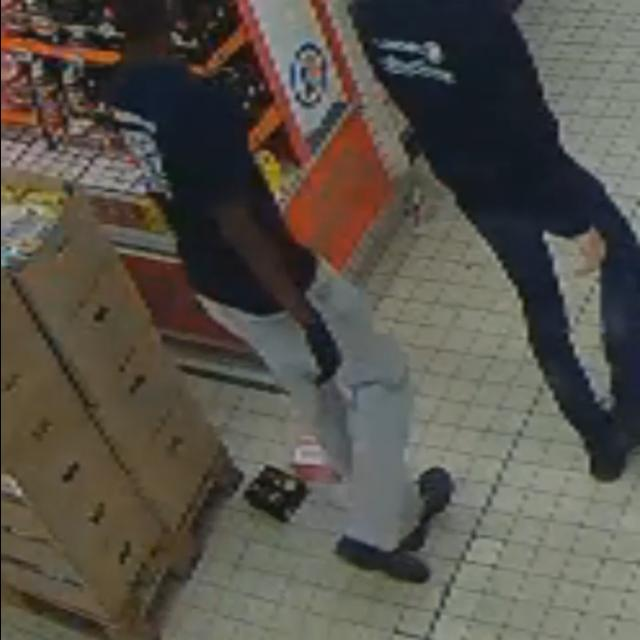hands: (305, 310, 342, 386), (576, 229, 607, 275)
person: (106, 0, 452, 582), (351, 0, 639, 480)
